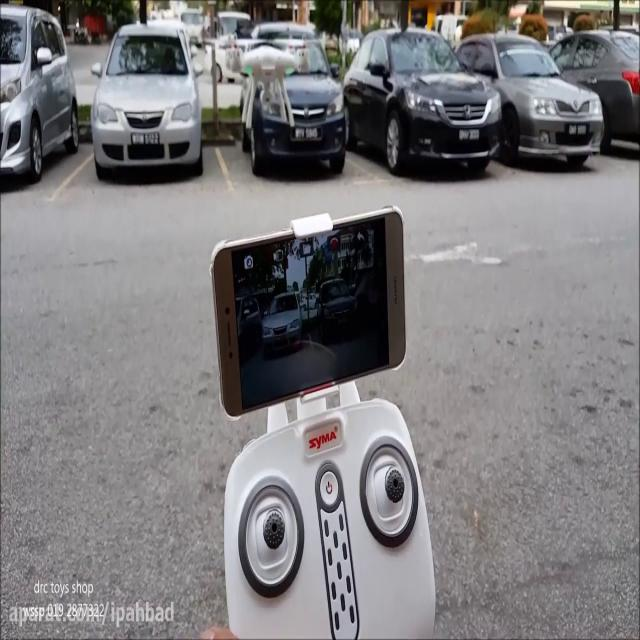drone: (225, 27, 308, 129)
